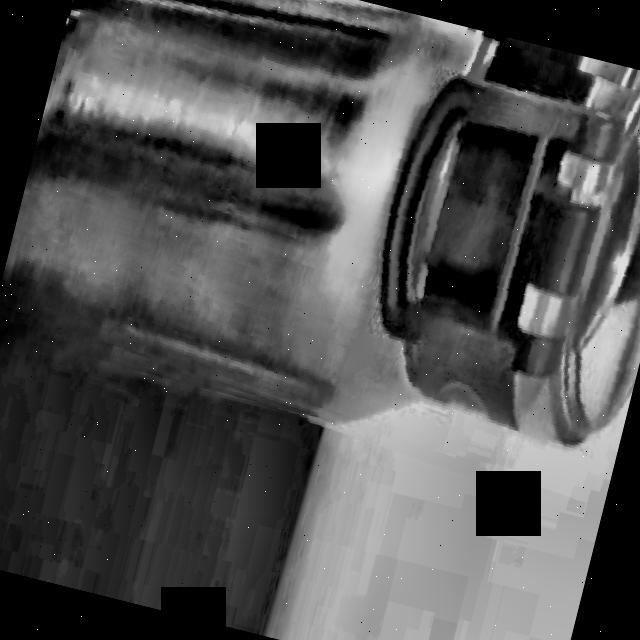bottle: (1, 0, 640, 446)
